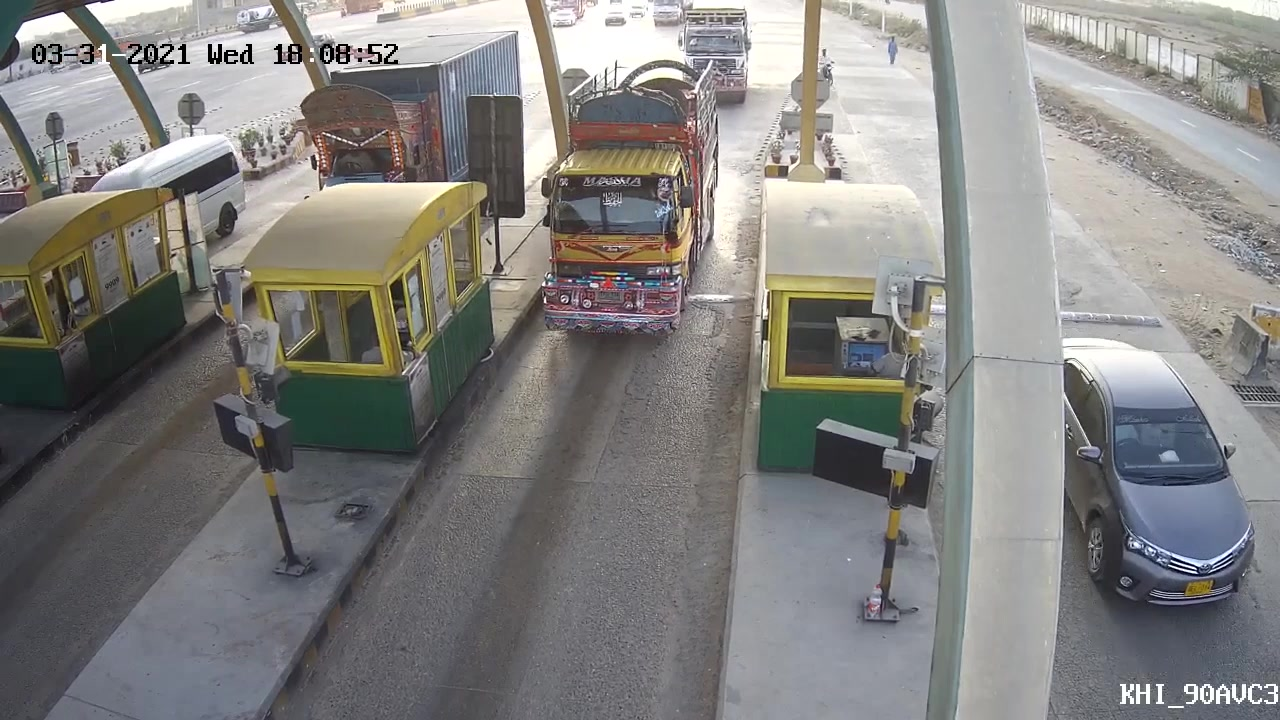F5: (527, 61, 726, 339)
